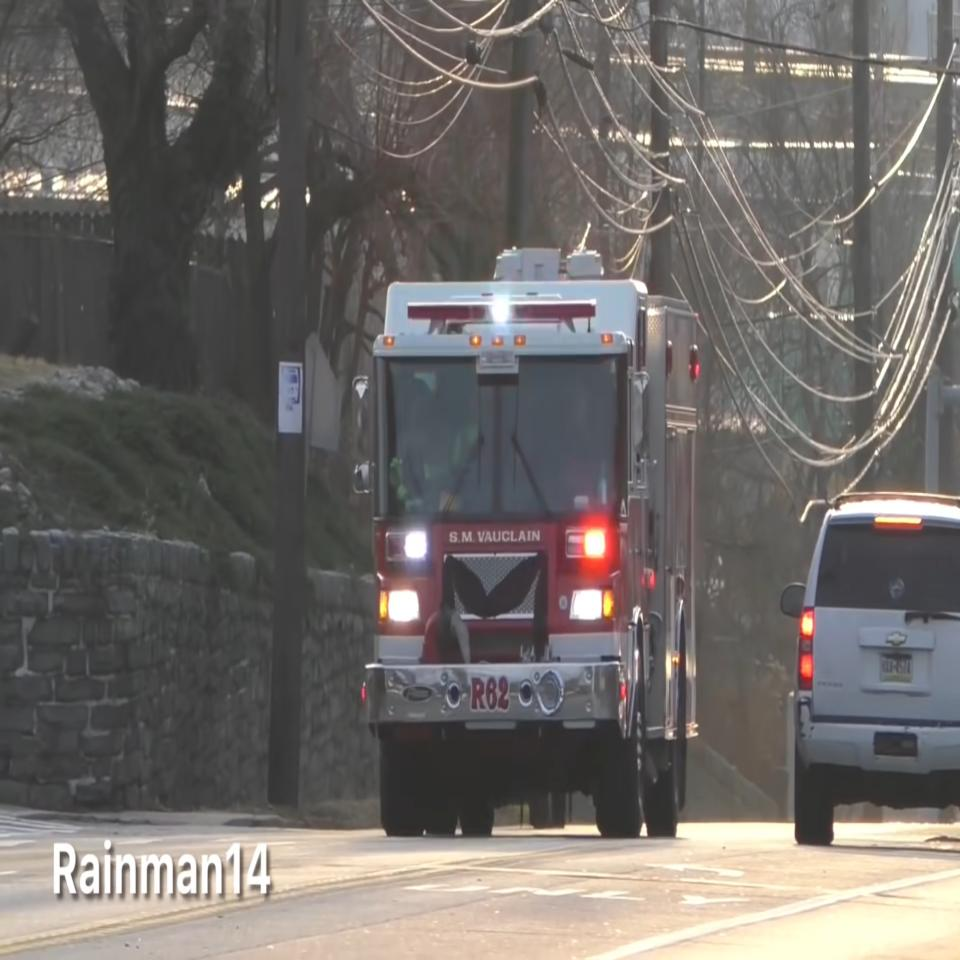viatura: (350, 247, 700, 838)
